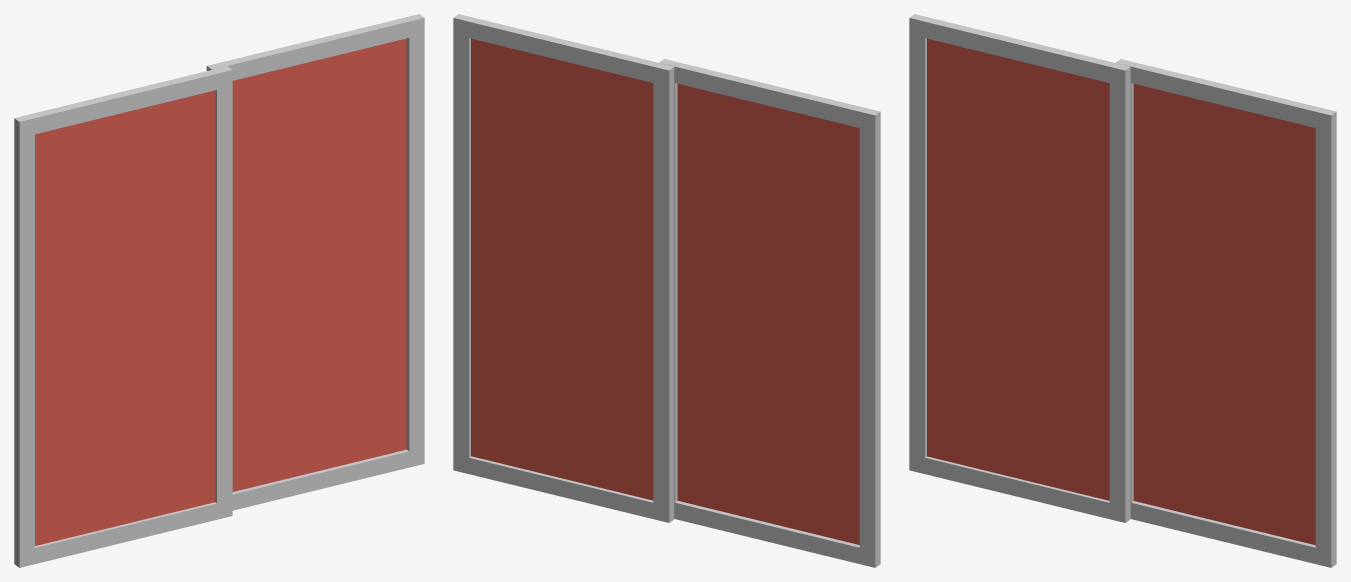
Rendered from Mesh_DoorBalcony.fbx.
3 renders of one model, left to right at view 1: azimuth 30°, elevation 25°; view 2: azimuth 150°, elevation 25°; view 3: azimuth 330°, elevation 25°, orthographic.
Visible parts, largest first — view 1: Mesh_DoorBalcony; view 2: Mesh_DoorBalcony; view 3: Mesh_DoorBalcony.
Boxes of the visible parts, x1,y1,x2,y2 form: Mesh_DoorBalcony: (14,14,424,567); Mesh_DoorBalcony: (453,14,880,567); Mesh_DoorBalcony: (909,14,1336,567).
Bounding box in the file's own units: 2.02 × 2.1 × 0.0908.
